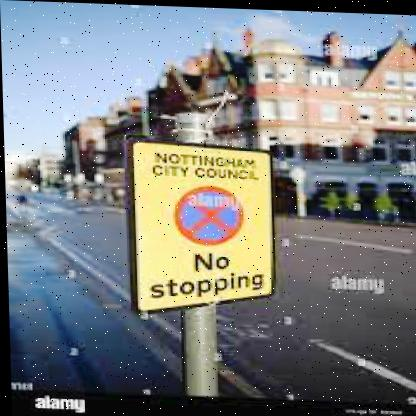No stopping: (159, 176, 249, 246)
